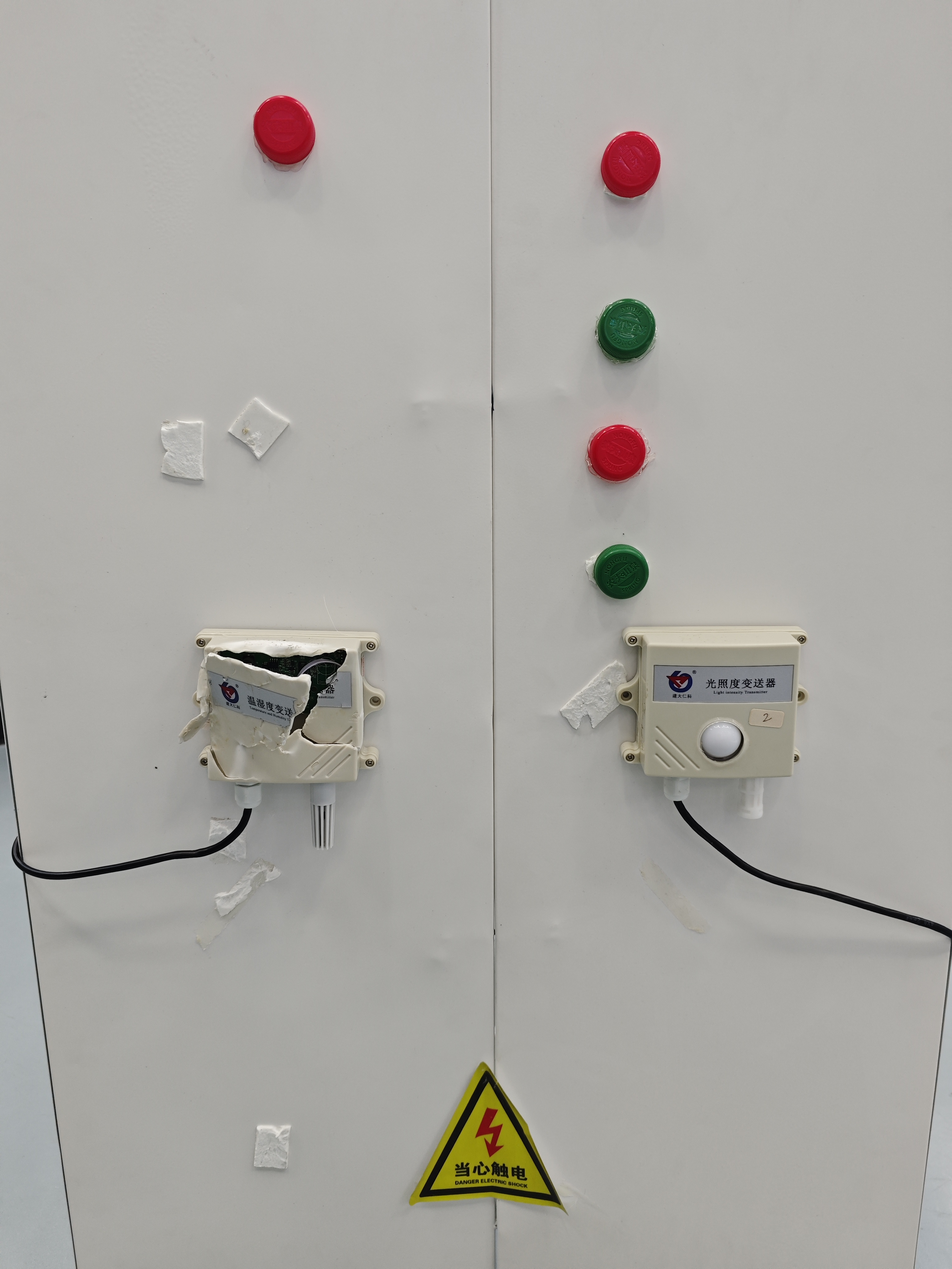red_warning: (569, 393, 738, 516), (577, 103, 696, 225), (224, 80, 362, 183)
sensor_damage: (152, 586, 399, 855)
